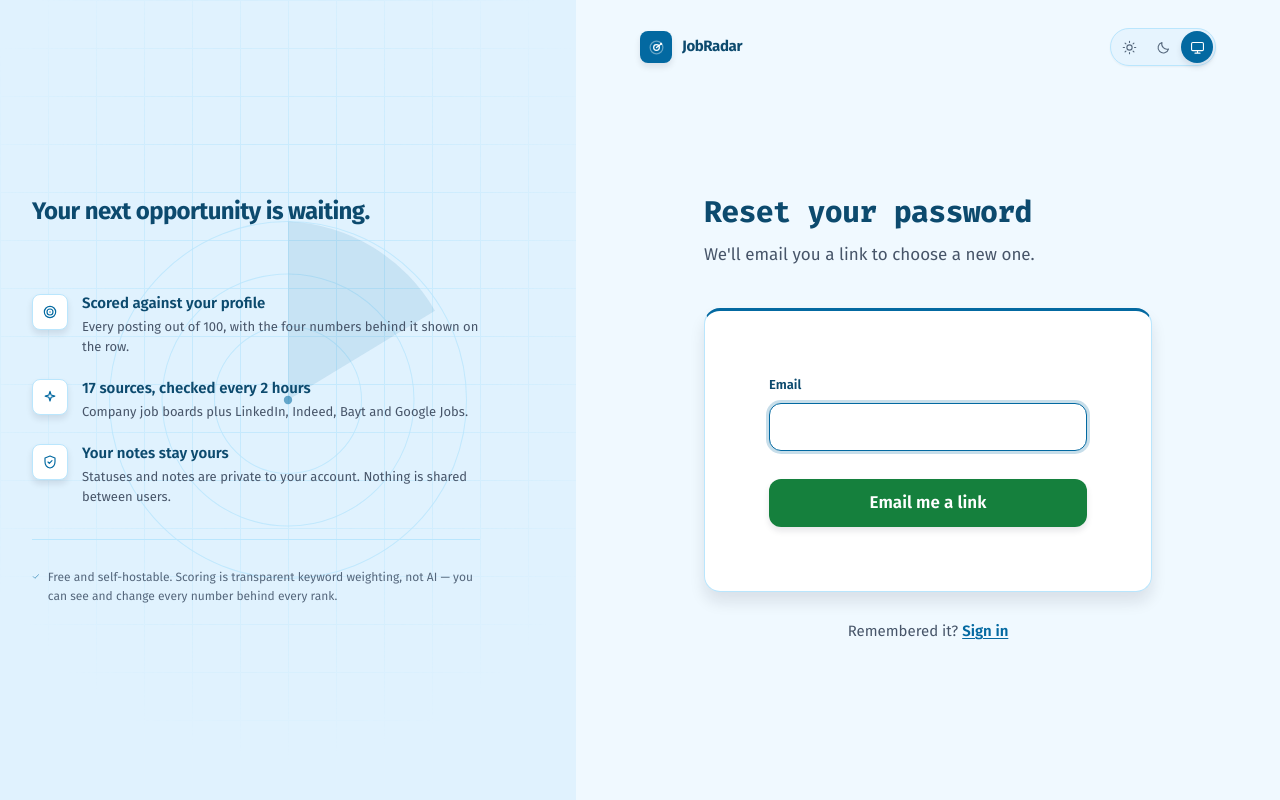
Test case: forgot password › surfaces a rejected address instead of pretending it worked
Type "not-an-email" into the field labelled "Email" at [928, 427], box [769,403,1087,451]
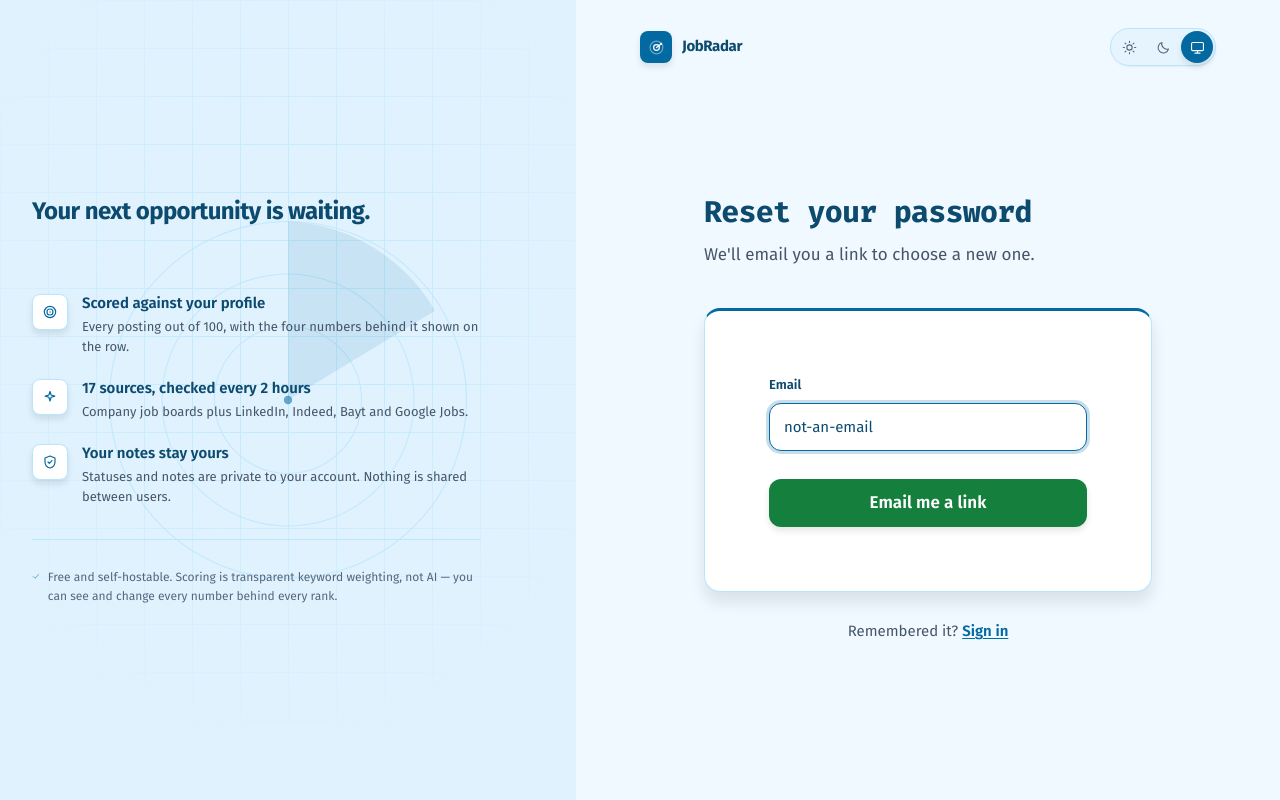
Click the button "Email me a link" at [928, 503], box [769,479,1087,527]
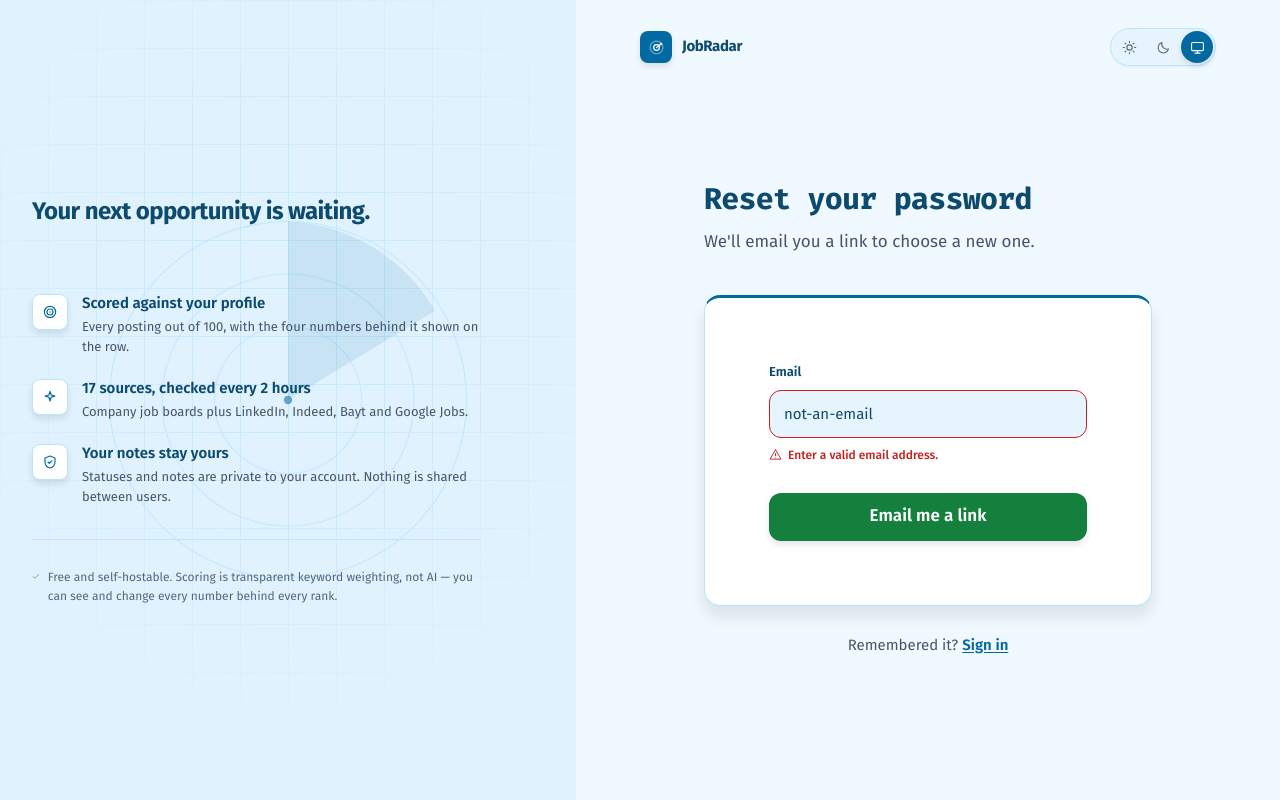
expect the heading "check your inbox" is not shown: met
expect the text "Enter a valid email address." is shown: met, box [788,448,938,462]
